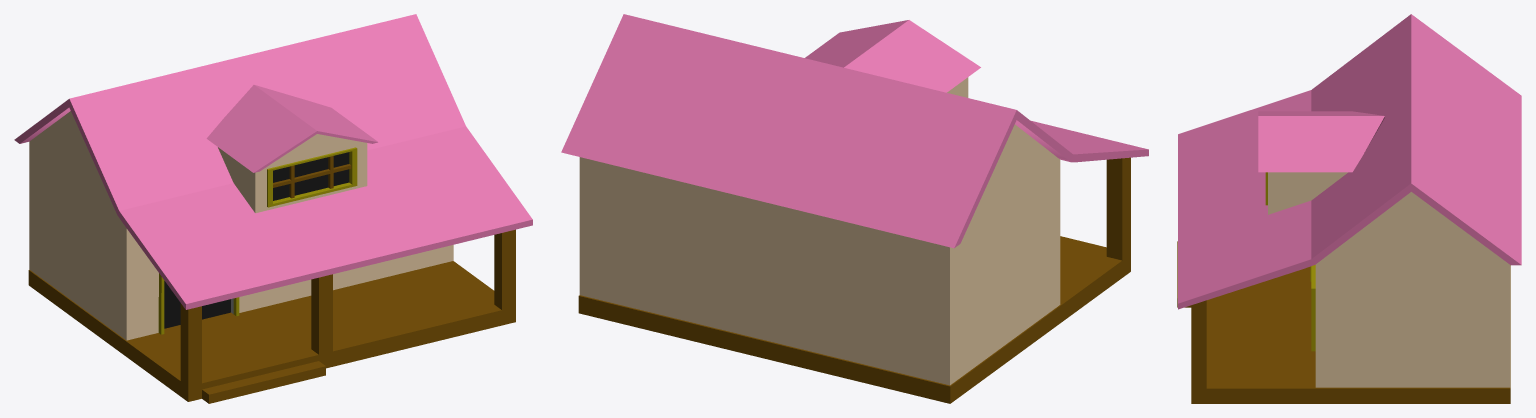
Rendered from house_4.fbx.
The picture shows the model from 3 angles, left to right: view 1: azimuth 30°, elevation 25°; view 2: azimuth 150°, elevation 25°; view 3: azimuth 270°, elevation 25°; orthographic projection. The views are drawn at different scales.
Visible parts, largest first — view 1: House_will1_pCube164; view 2: House_will1_pCube164; view 3: House_will1_pCube164.
Part boxes in pixels (x1,y1,x2,y2): House_will1_pCube164: [14, 14, 532, 403]; House_will1_pCube164: [561, 14, 1148, 403]; House_will1_pCube164: [1177, 14, 1521, 403].
Bounding box in the file's own units: 21.7 × 13.47 × 18.65.
